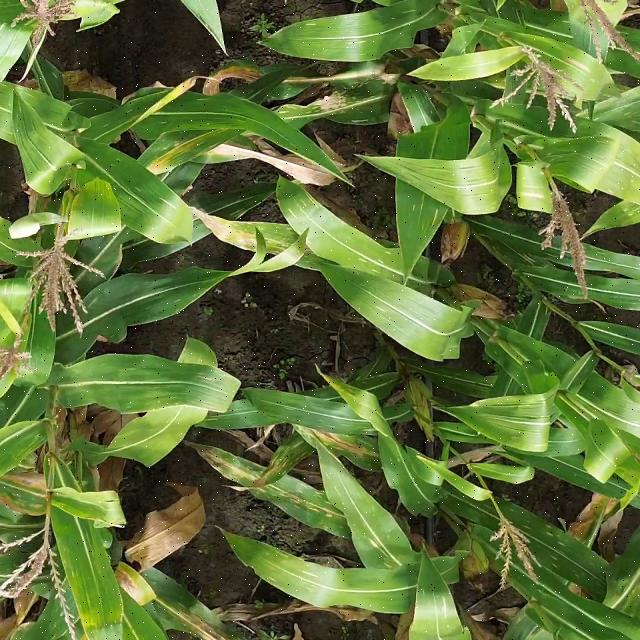gray-leaf-spot: (180, 441, 416, 569), (207, 197, 397, 280), (466, 488, 598, 587), (135, 97, 306, 168), (200, 408, 388, 446), (402, 171, 451, 247)
northern-leaf-blight: (0, 469, 59, 521)
